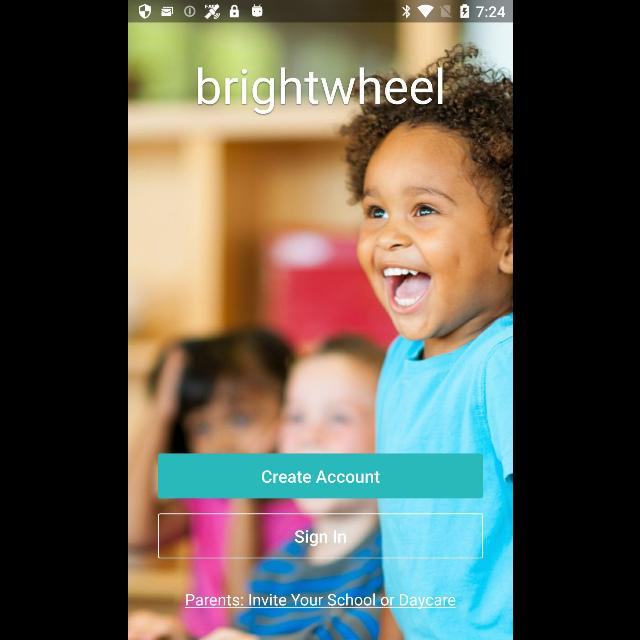backgroundimage: (128, 22, 512, 640)
text: (196, 67, 442, 115), (184, 593, 456, 609)
textbutton: (158, 454, 482, 498), (158, 514, 482, 558)
uppertaskbar: (128, 1, 512, 23)
